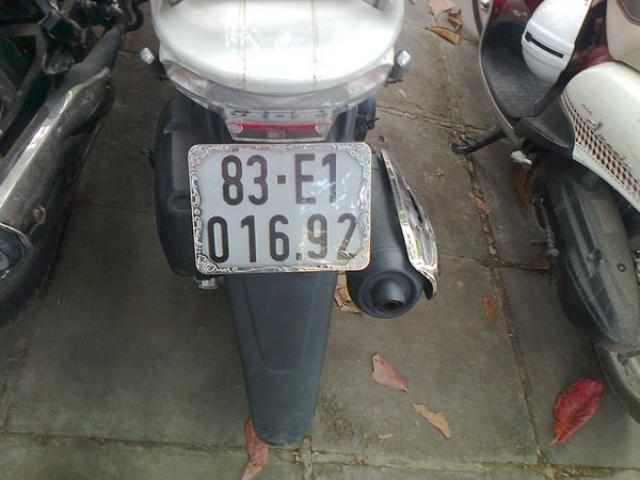plate: (198, 146, 362, 268)
